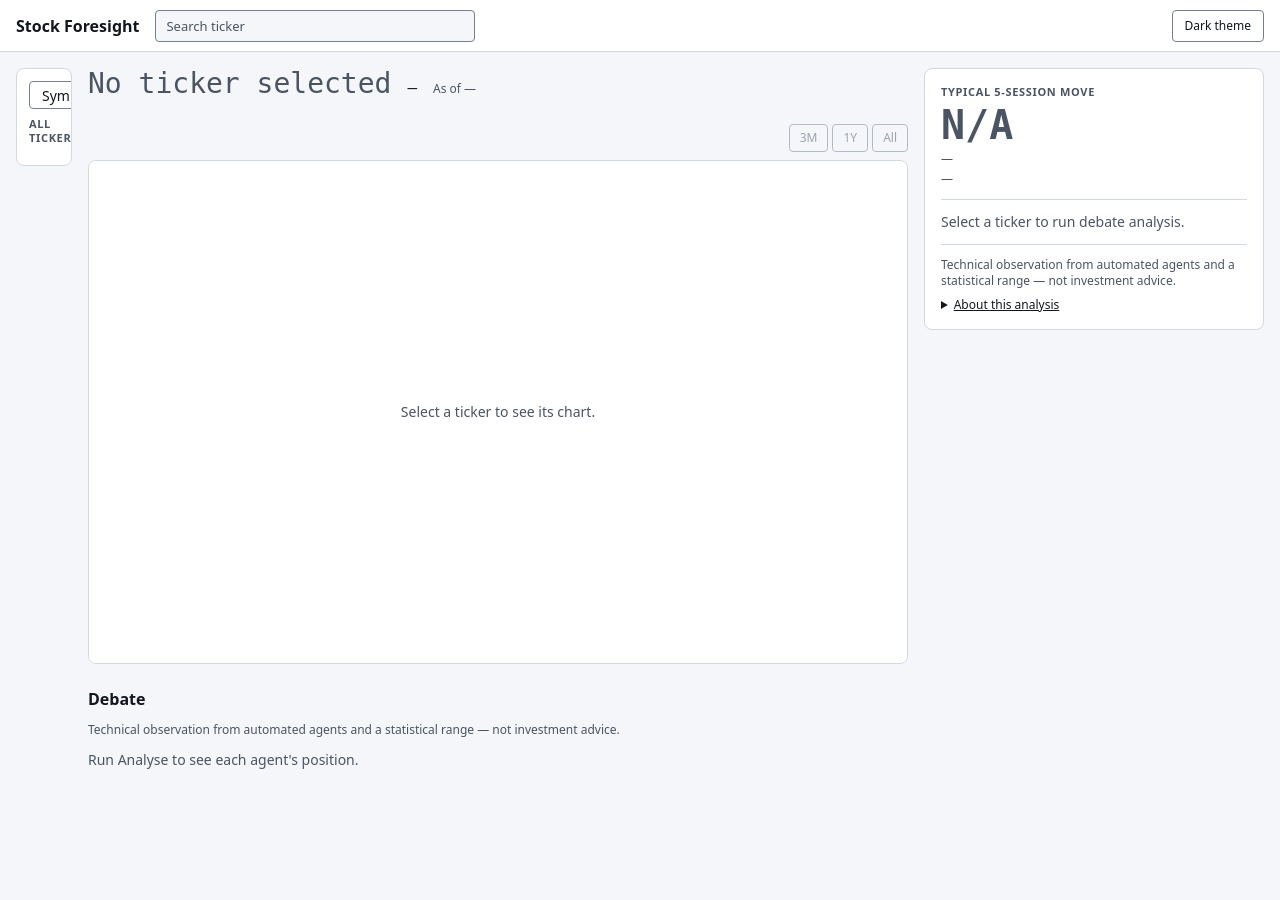
Scenario: App (dashboard assembly) › searching and loading an unloaded ticker drives the chart and range without a manual refresh
Type "VIB" into the field labelled "Search ticker" at (316, 26), box [156, 10, 476, 42]
Then press Enter
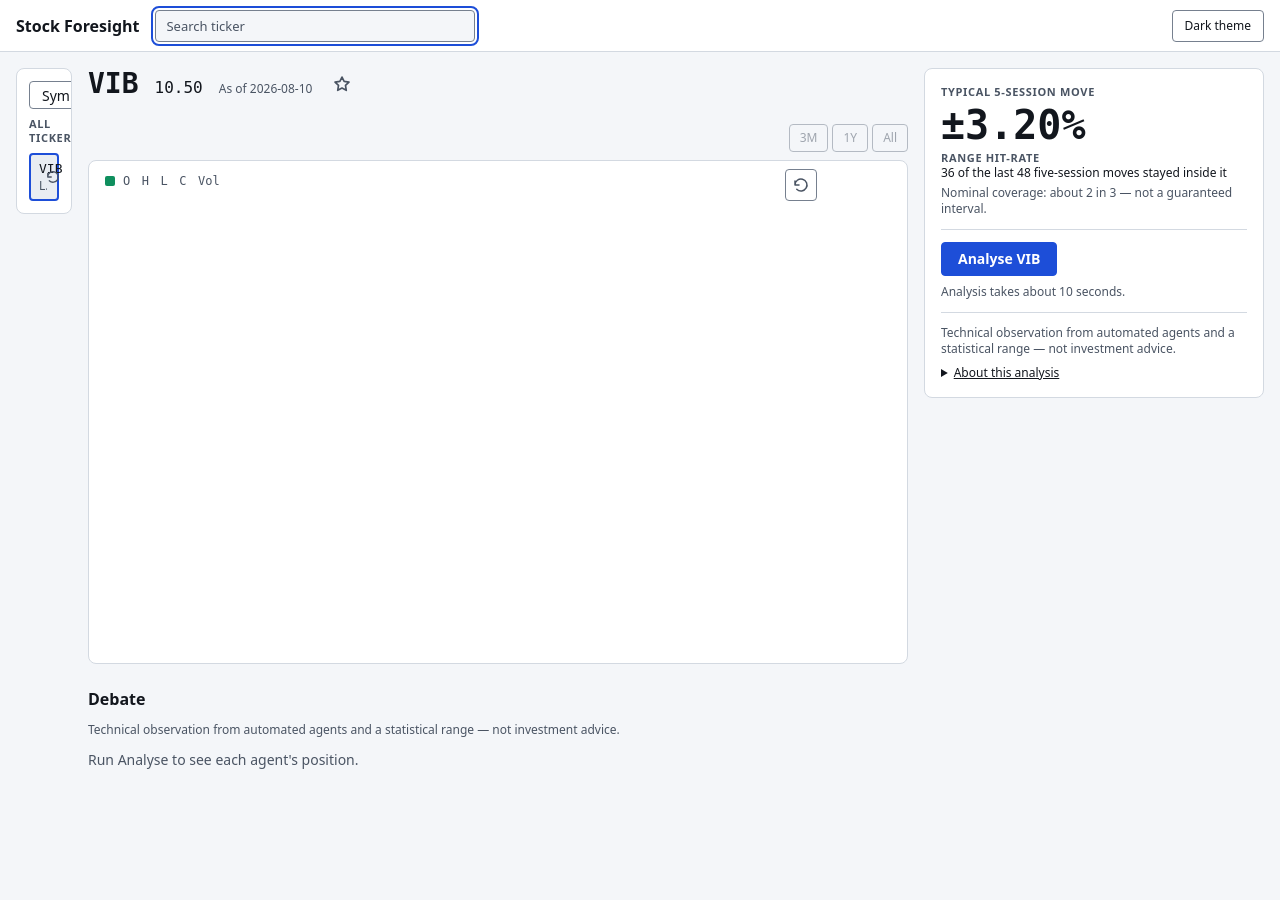
Now the text "±3.20%" is shown, box [941, 102, 1086, 148]
